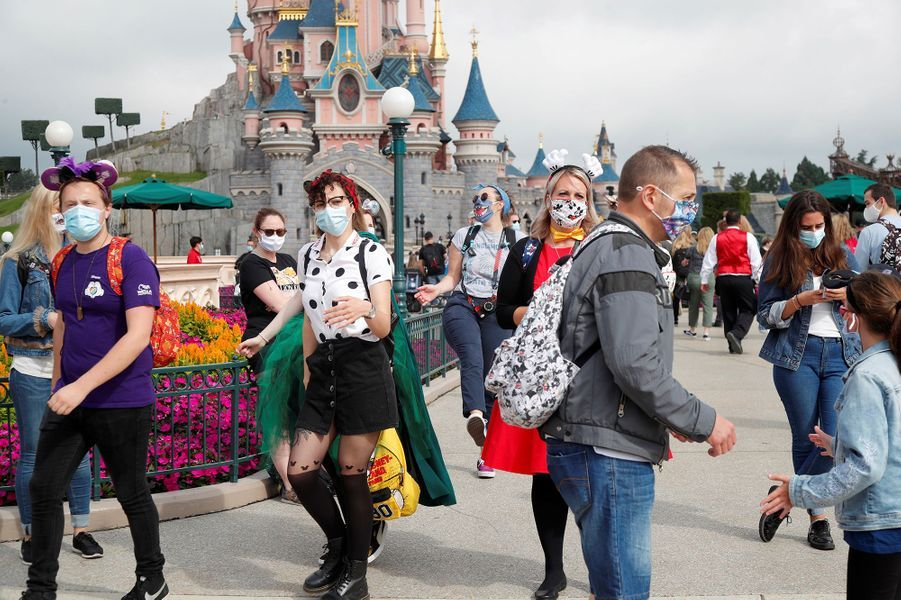with_mask: (659, 169, 698, 238), (64, 192, 100, 239), (552, 183, 587, 226), (311, 196, 350, 234), (797, 213, 825, 251), (473, 192, 497, 226), (261, 225, 285, 253), (863, 194, 885, 220)
